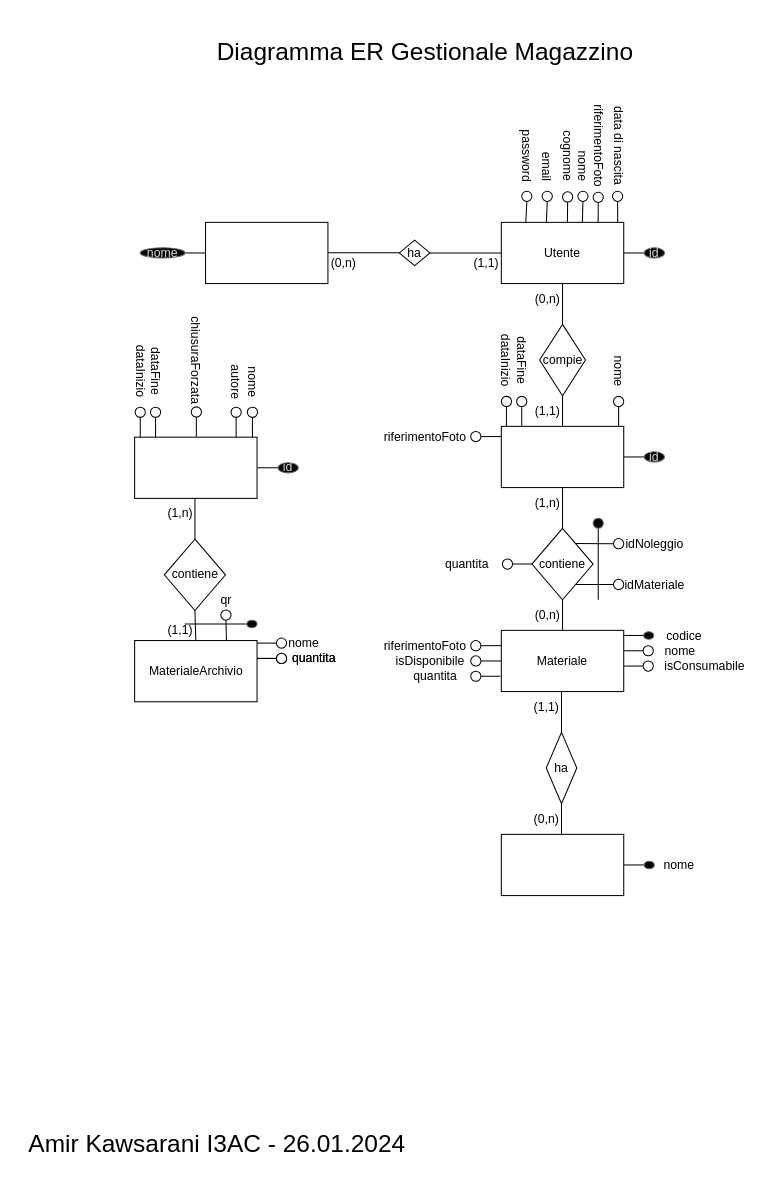
This 772x1197 diagram has some shape labels left out. The shapes that lost their labels are listed below. From the top down, each one's centre as x and y in pixels, then its label:
At pixel 266 252: "Ruolo".
At pixel 195 467: "NoleggioArchivio".
At pixel 562 456: "Noleggio".
At pixel 562 864: "Categoria".
